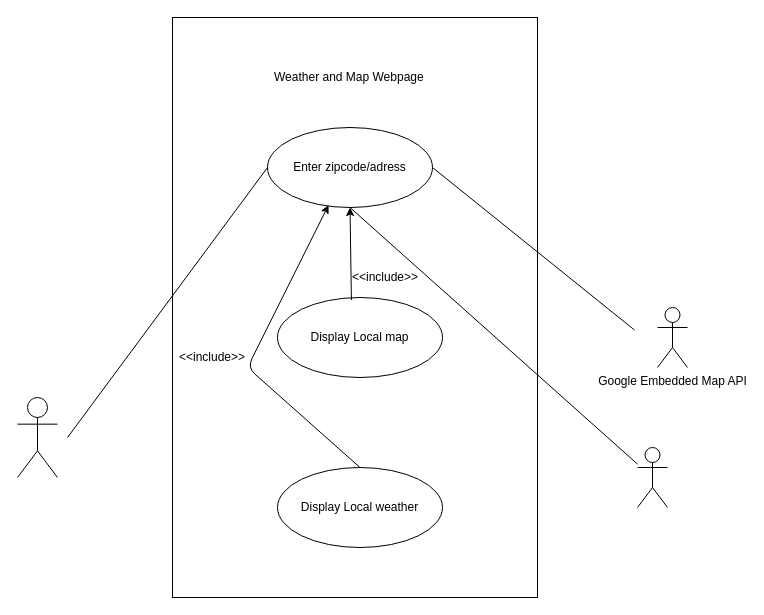
The diagram is 764 pixels wide and 615 high, and some of its shapes have lost their labels. The box of each missing label's shape, as (x1, y1, x2, y2) in pixels:
Open Weather API: (636, 446, 668, 508)
User: (16, 396, 58, 478)
